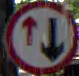Two way: (2, 3, 76, 72)
